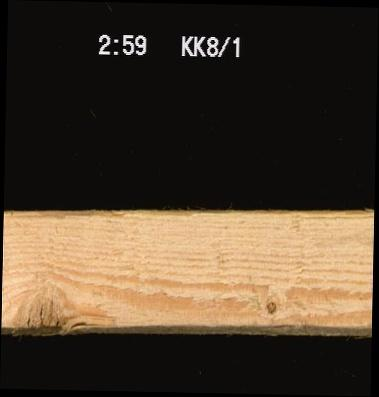dry_knot: (264, 298, 277, 314)
edge_knot: (10, 282, 88, 333)
